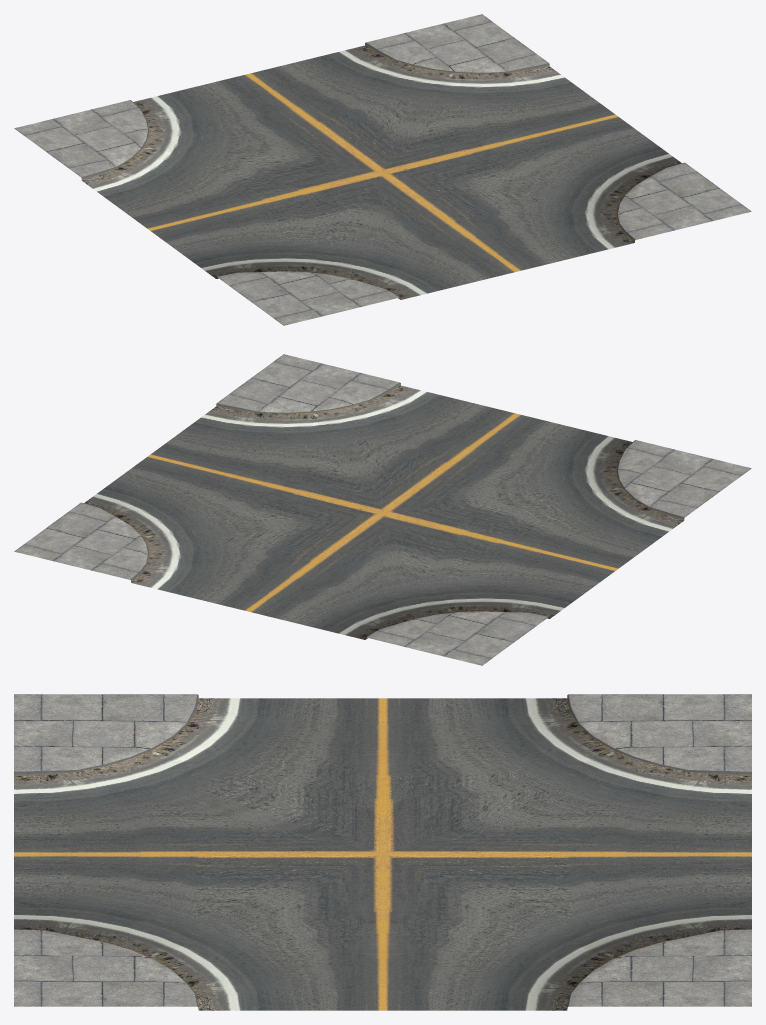
File: CrossingPedestrian.FBX
The picture shows the model from 3 angles, top to bottom: view 1: azimuth 30°, elevation 25°; view 2: azimuth 150°, elevation 25°; view 3: azimuth 270°, elevation 25°; orthographic projection. The views are drawn at different scales.
Parts seen in each view (by area): view 1: Plane036; view 2: Plane036; view 3: Plane036.
Boxes of the visible parts, box(x1,y1,x2,y2) form: Plane036: box(14, 14, 751, 325); Plane036: box(14, 354, 751, 665); Plane036: box(14, 694, 751, 1010).
Bounding box in the file's own units: 1230 × 6.93 × 1228.
